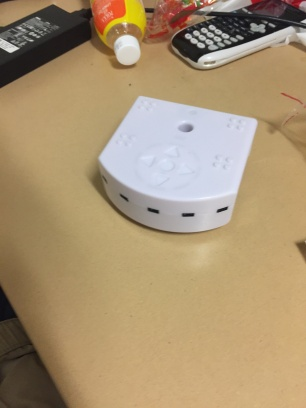thymio: (84, 87, 269, 236)
